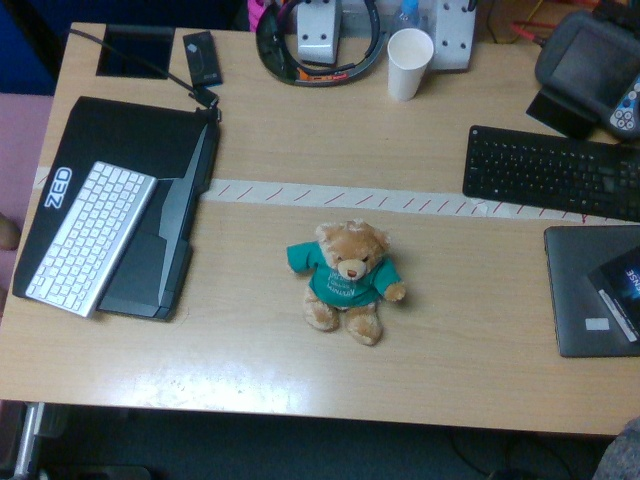teddy: (286, 220, 408, 346)
